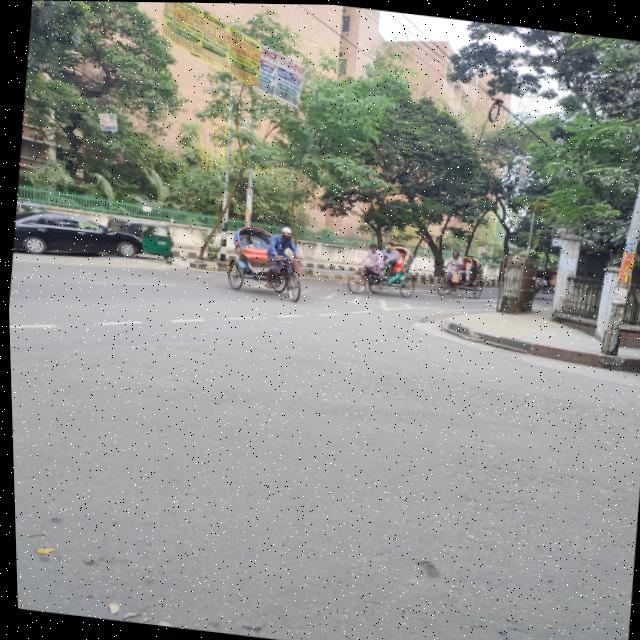rikshaw: (209, 212, 331, 323), (339, 236, 431, 312)
